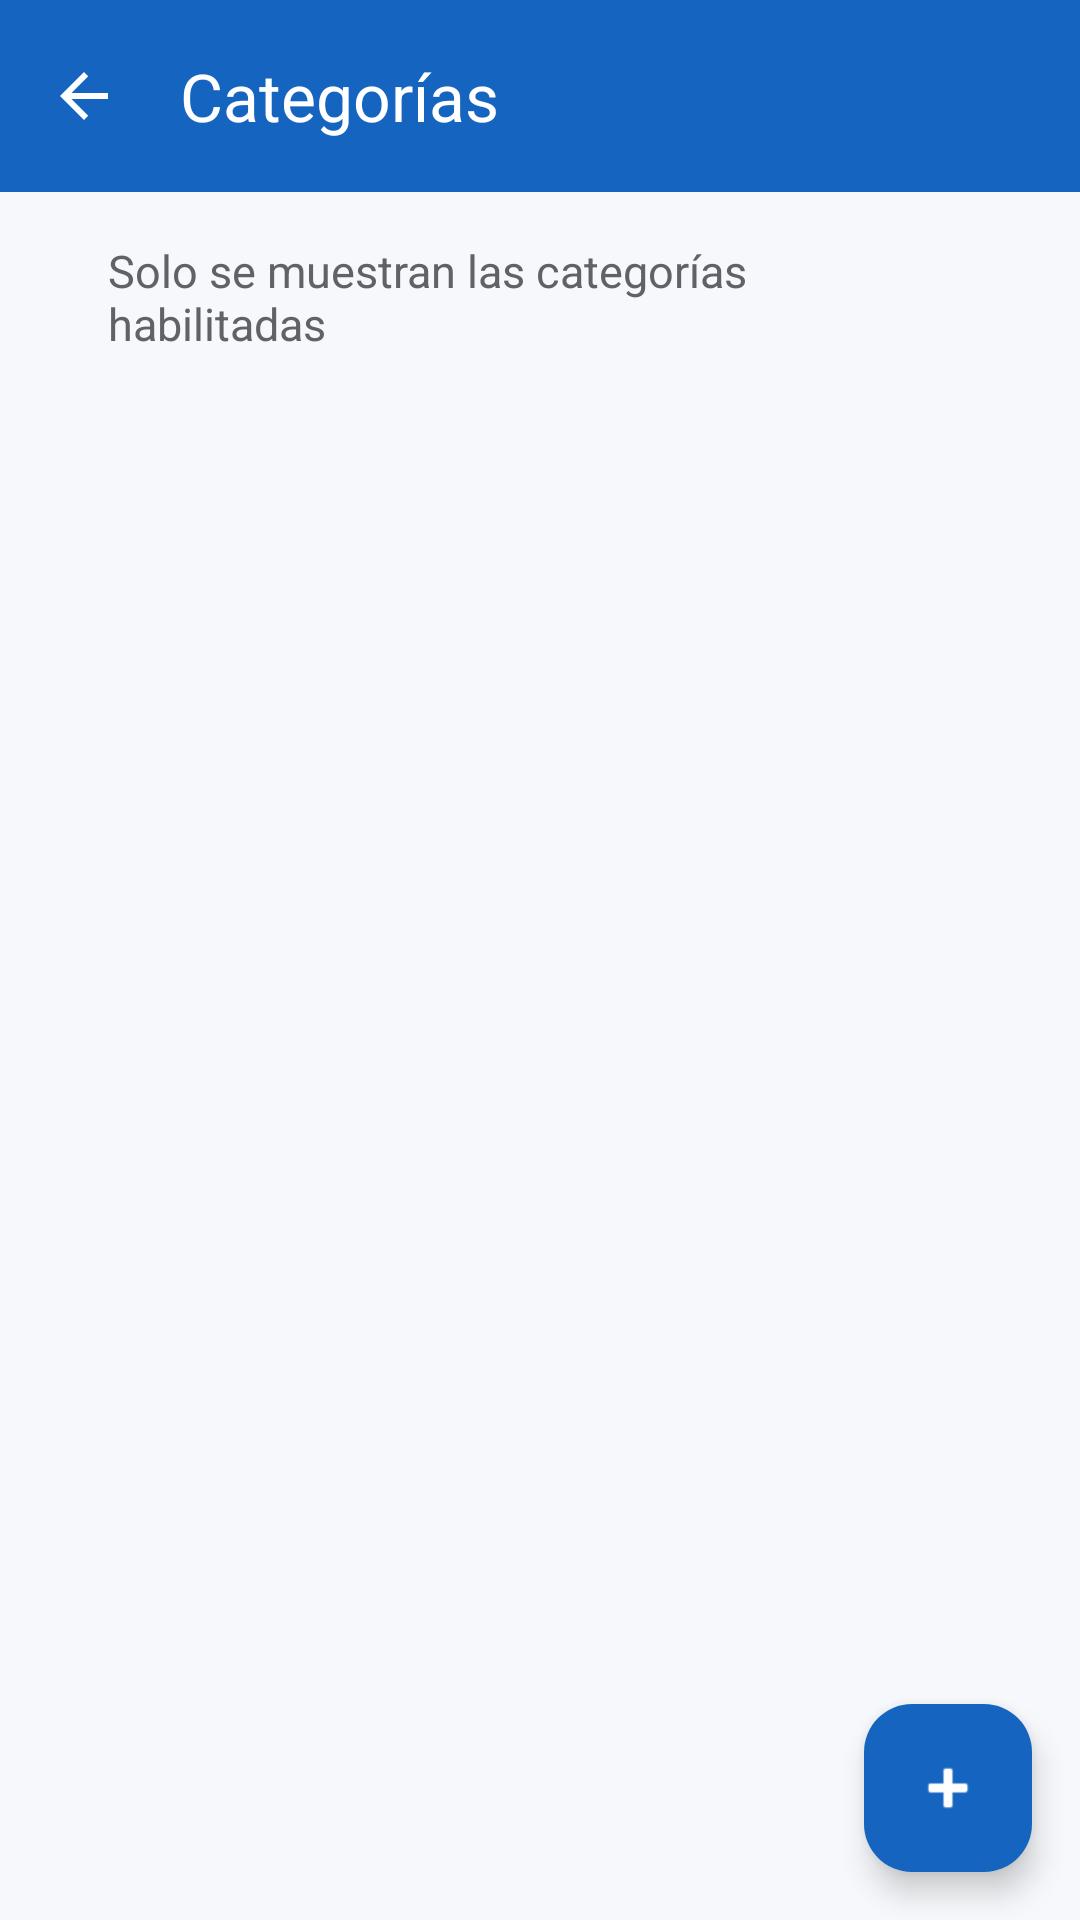

Icons on this 1080px x 1920px Android screen, each with the point to tap as [x,y]:
Agregar categoría: [948,1788]
